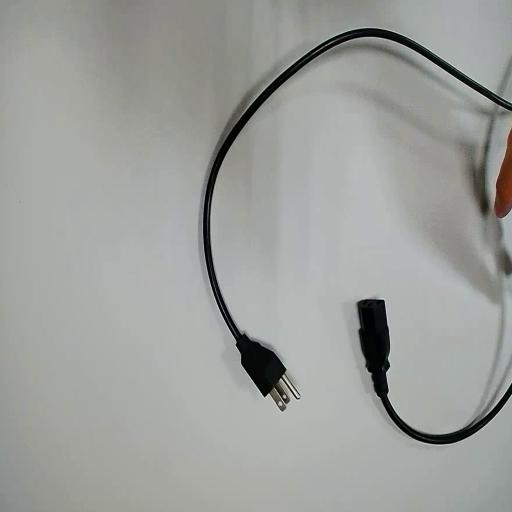wire: (204, 29, 511, 394), (358, 300, 511, 443)
